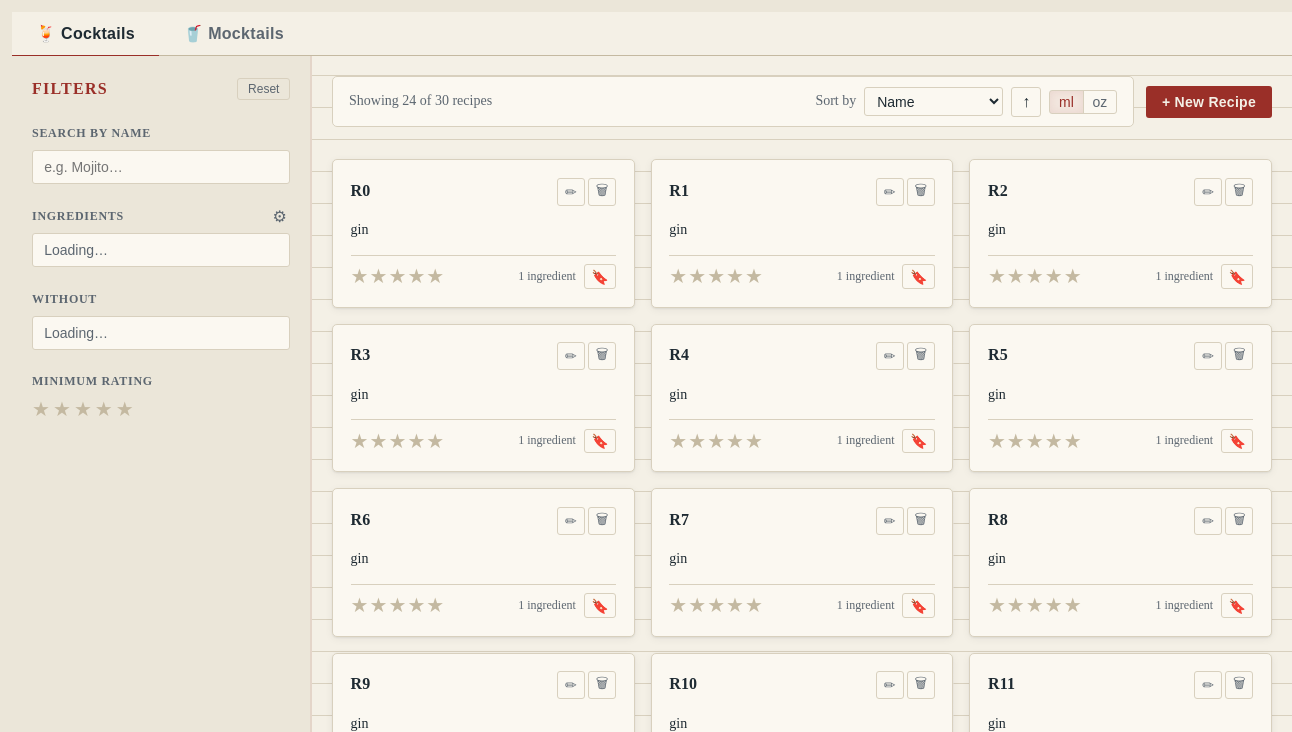
RecipesPage — infinite list › RecipesPage_deleteARecipe_removesTheCardAndCountsDown
The width and height of the screenshot is (1292, 732).
Expected: the heading "R0" is shown, [351,182,370,199]
What coordinates should you click on to do the following:
click the button named "Delete R0"
I would click on:
 (602, 192)
Its box is [588,178,616,206].
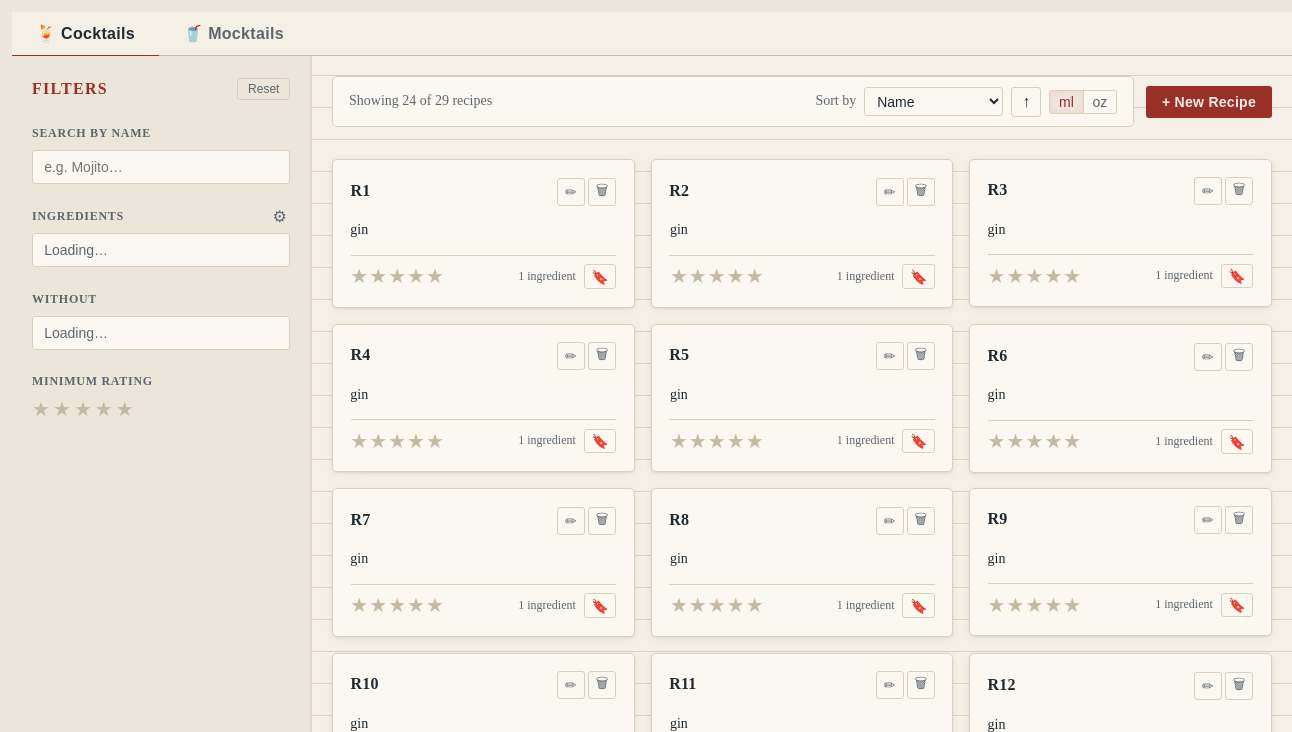
Expected: the heading "R0" is gone
Expected: the text "Showing 24 of 29 recipes" is shown, [349,90,492,113]
